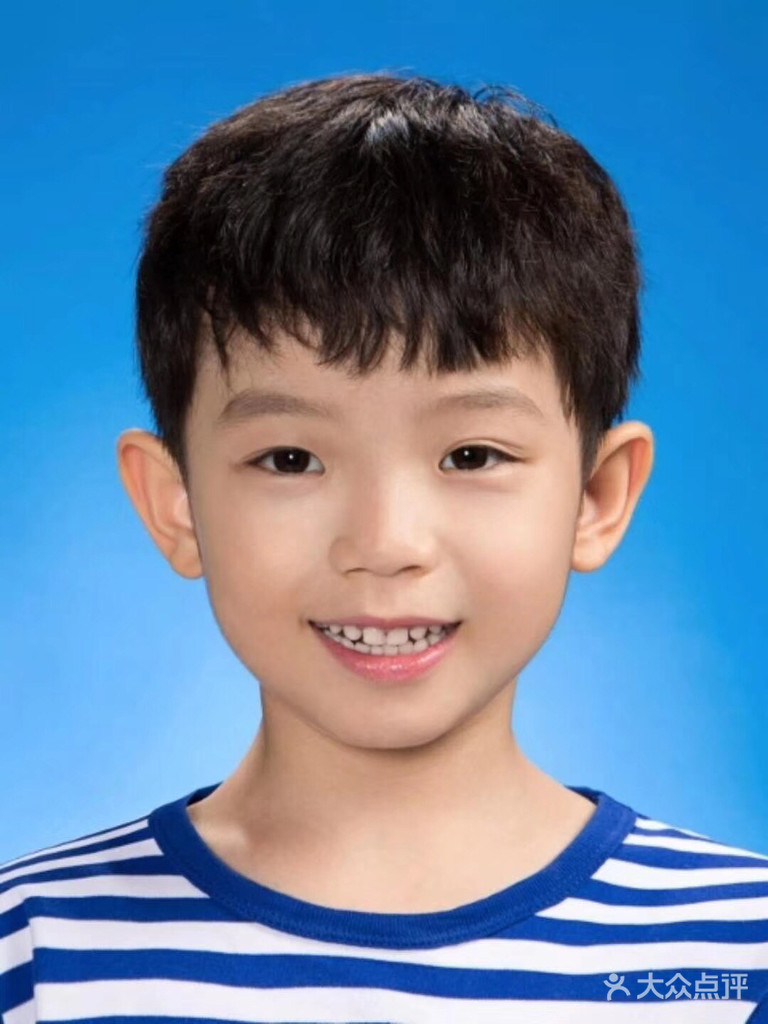unmask: (176, 317, 566, 723)
